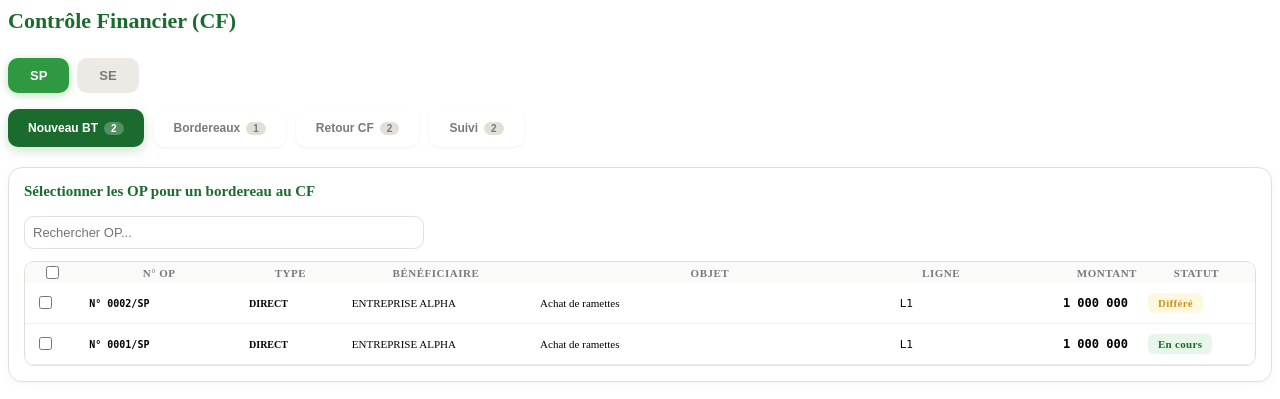
Test: Circuit CF — le suivi des différés et des rejets › un différé est listé avec sa date et son motif
Click the button "Suivi 2".
click(477, 128)  # box [429, 109, 524, 147]
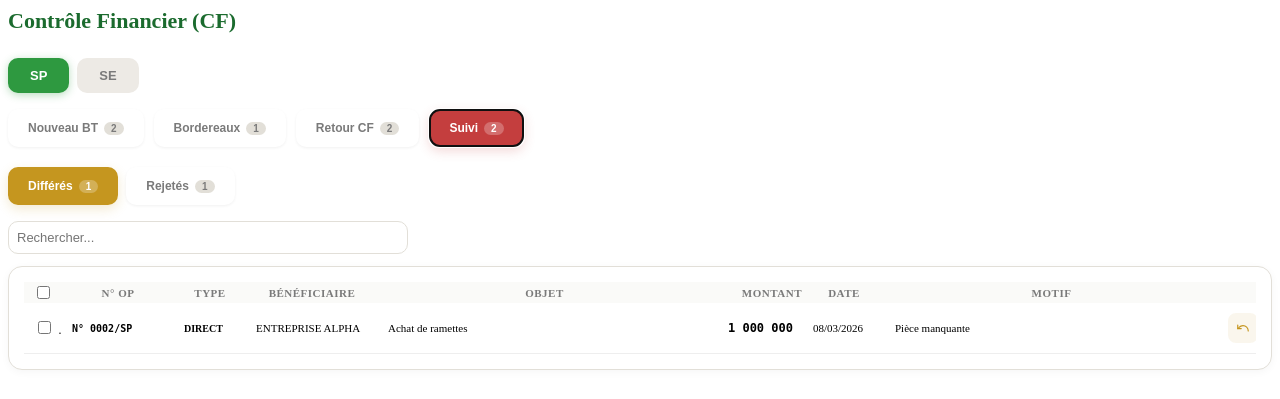
Now the text "08/03/2026" is shown, box [803, 303, 885, 354]
Now the text "Pièce manquante" is shown, box [885, 303, 1218, 354]
